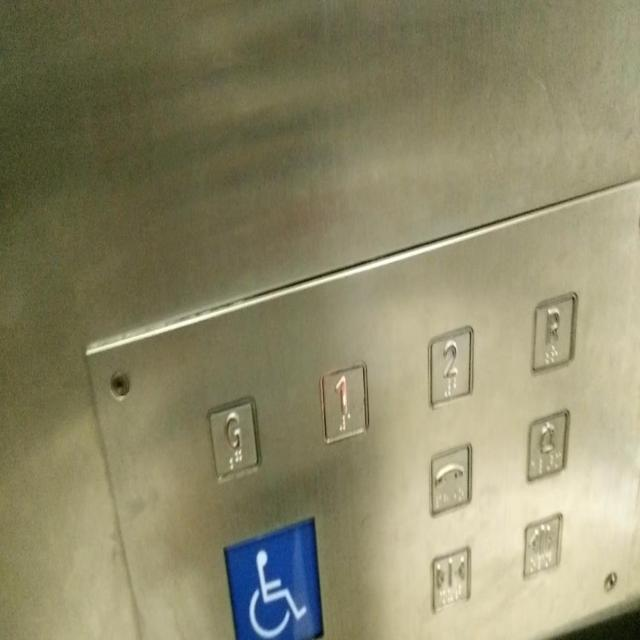1: (320, 358, 369, 445)
2: (426, 322, 474, 407)
CH: (222, 516, 324, 639)
G: (207, 392, 260, 483)
R: (528, 290, 578, 376)
alarm: (525, 408, 569, 483)
call: (428, 442, 472, 516)
close: (430, 544, 472, 612)
open: (521, 512, 563, 578)
